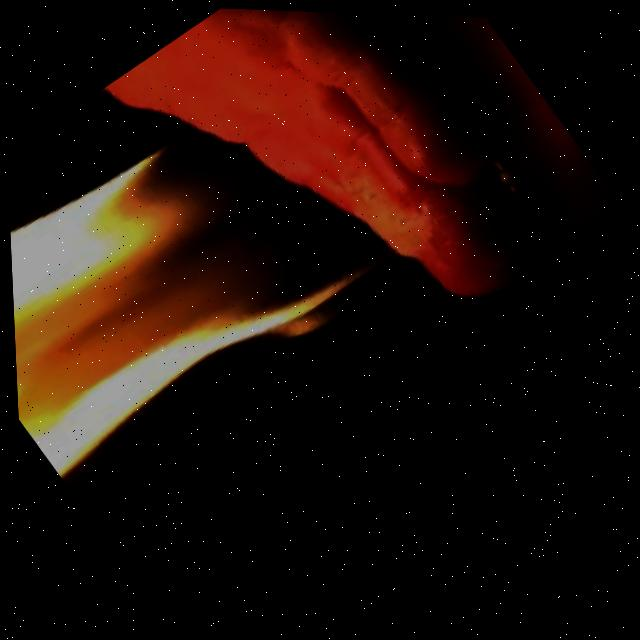Fire: (1, 16, 442, 511)
